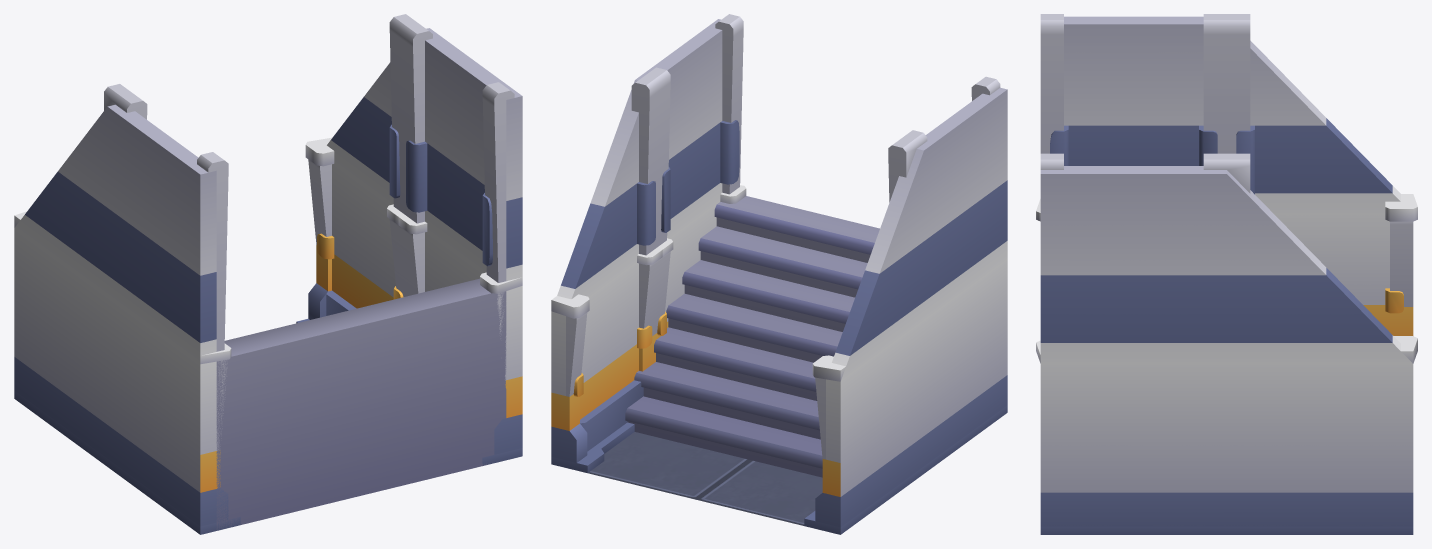
The model's file is kenney-space-stairs-wide.glb.
The picture shows the model from 3 angles, left to right: view 1: azimuth 30°, elevation 25°; view 2: azimuth 150°, elevation 25°; view 3: azimuth 270°, elevation 25°; orthographic projection. The views are drawn at different scales.
Visible parts, largest first — view 1: stairs-wide; view 2: stairs-wide; view 3: stairs-wide.
Boxes of the visible parts, bbox=[...] form: stairs-wide: bbox=[14, 14, 522, 534]; stairs-wide: bbox=[551, 14, 1007, 534]; stairs-wide: bbox=[1036, 14, 1417, 534].
Bounding box in the file's own units: 6 × 6.56 × 6.15.
Materials: 1 (1 with a texture image).
